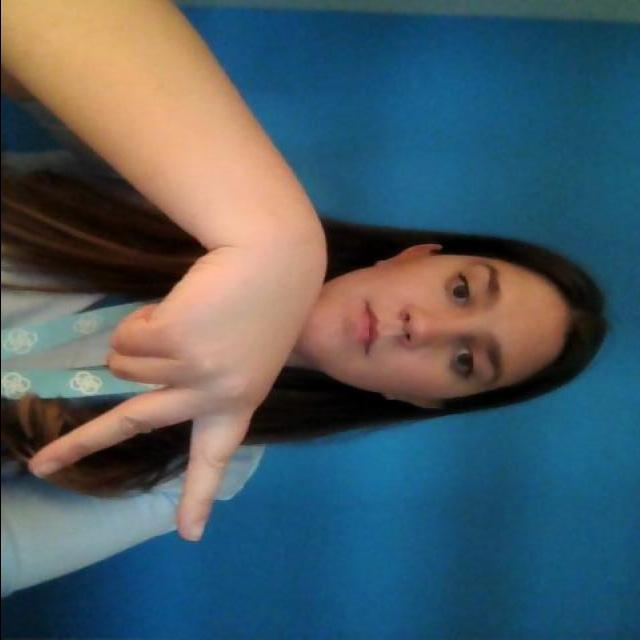Scissors: (17, 259, 335, 553)
